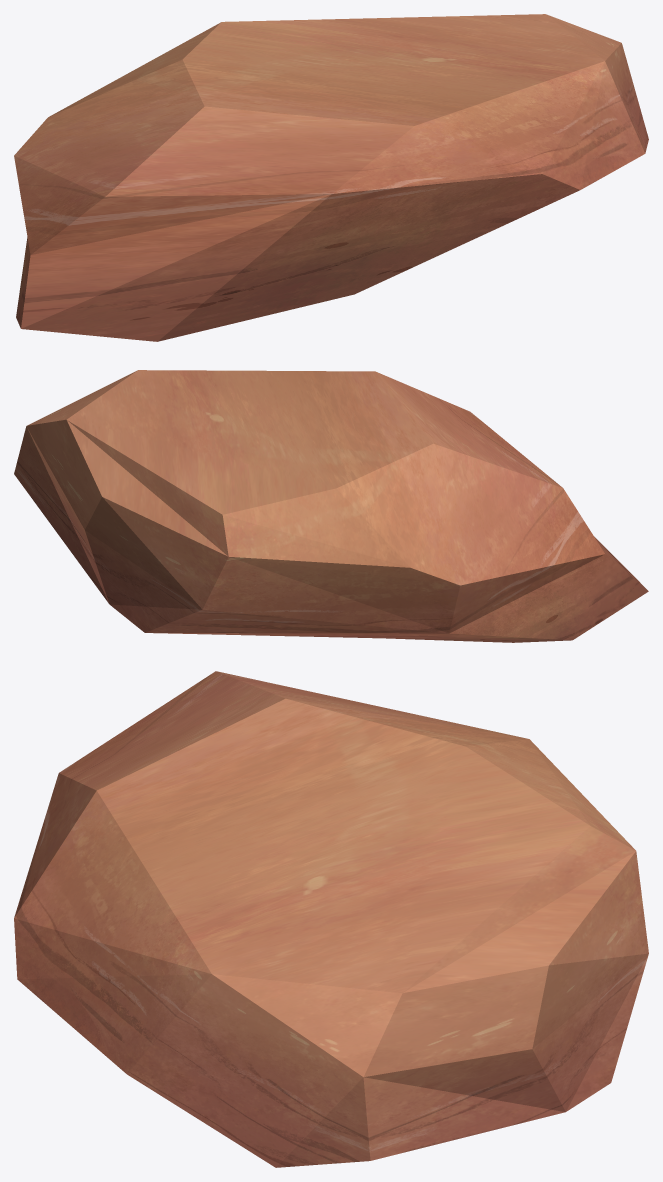
File: rock_2_002.fbx
3 renders of one model, top to bottom at view 1: azimuth 30°, elevation 25°; view 2: azimuth 150°, elevation 25°; view 3: azimuth 270°, elevation 25°, orthographic. The views are drawn at different scales.
Visible parts, largest first — view 1: rock 2.002; view 2: rock 2.002; view 3: rock 2.002.
Boxes of the visible parts, left/top/right/bottom form: rock 2.002: left=14, top=14, right=648, bottom=341; rock 2.002: left=14, top=370, right=648, bottom=642; rock 2.002: left=14, top=671, right=648, bottom=1167.
Bounding box in the file's own units: 344 × 105 × 210.
